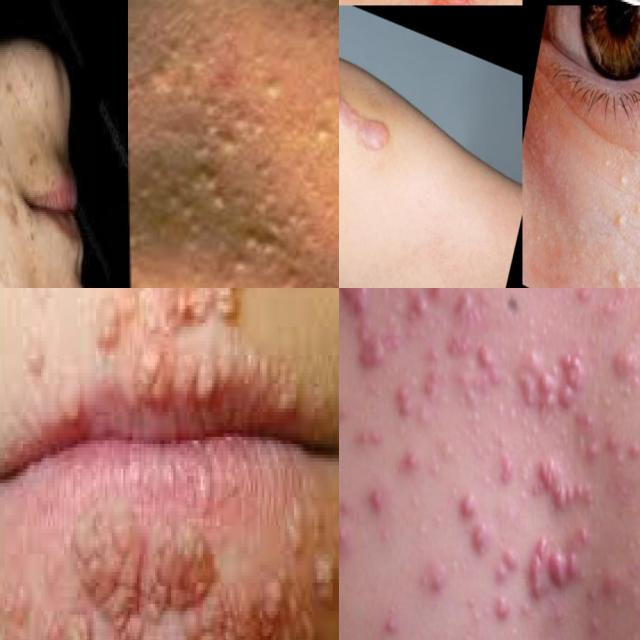comedone: (217, 224, 339, 288), (182, 160, 295, 219), (201, 105, 268, 162), (138, 58, 208, 102), (263, 73, 296, 109), (490, 392, 513, 438), (305, 113, 338, 144)
crystanlline: (532, 454, 598, 512), (406, 288, 478, 326), (525, 527, 549, 608), (556, 352, 586, 415), (356, 328, 392, 372), (339, 288, 369, 317)
flat_wart: (0, 490, 339, 640), (0, 288, 321, 426), (0, 107, 23, 162)
keloid: (339, 52, 401, 170), (551, 546, 599, 596)
milium: (584, 134, 640, 234), (600, 194, 640, 244), (593, 258, 640, 288), (628, 238, 640, 283)
